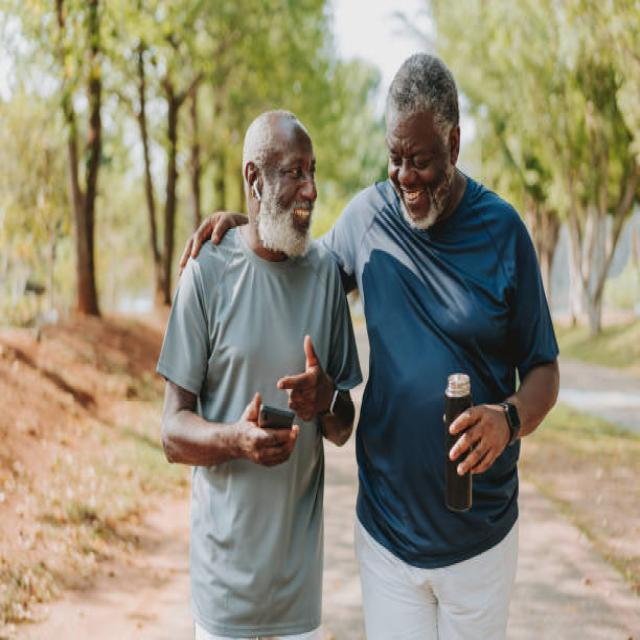Real human 2: (151, 39, 577, 640)
